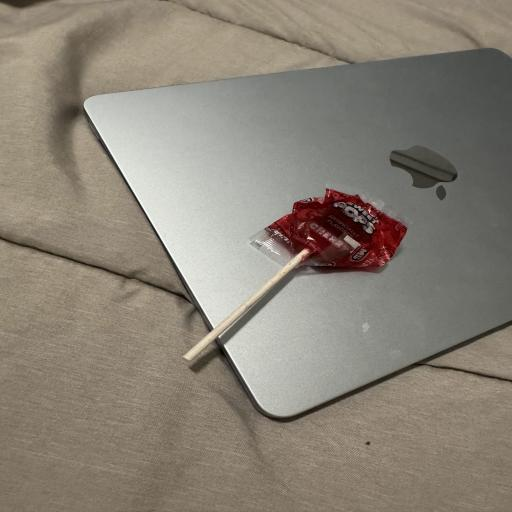chocolate: (252, 189, 407, 268)
